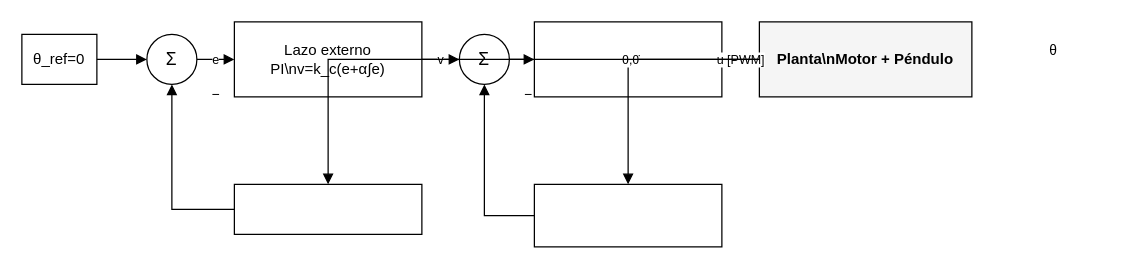
This 1131x269 diagram has some shape labels left out. Here are the shapes that lost their labels. From the top down, the centre of each, then its label:
point (627, 59): Lazo interno P\nu=k_2(v-w)
point (327, 208): Sensor ( θ )
point (627, 215): w = θ̇ + α·θ
